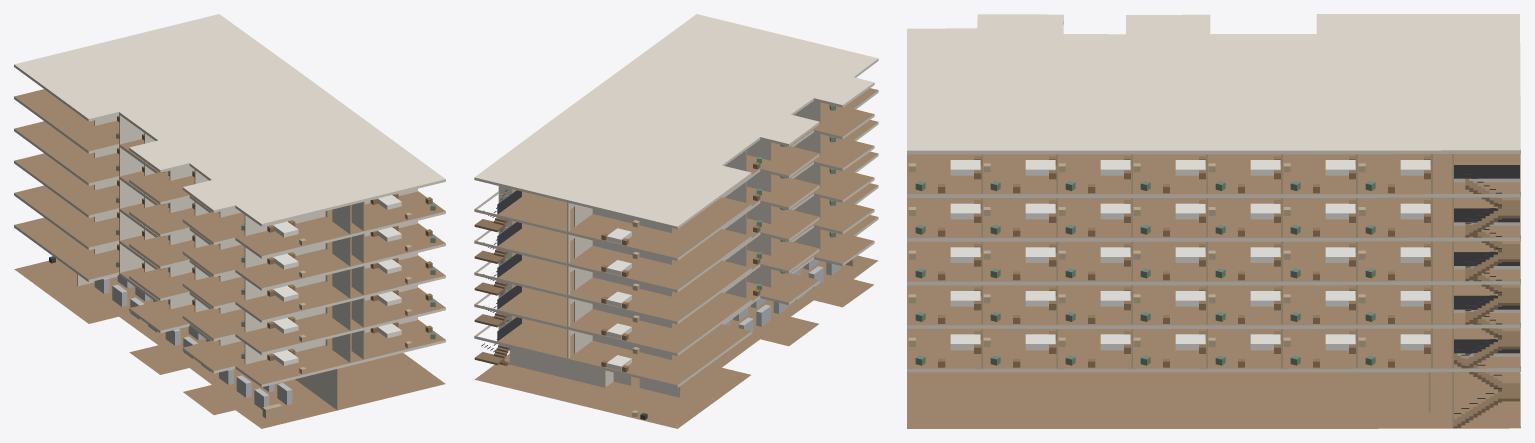
Rendered from interior.glb.
3 views of the same model, side by side, from view 1: azimuth 30°, elevation 25°; view 2: azimuth 150°, elevation 25°; view 3: azimuth 270°, elevation 25° (orthographic). The views are drawn at different scales.
Visible parts, largest first — view 1: slabs, partitions, coarse-s0, coarse-s1, coarse-s5, coarse-s3, coarse-s2, coarse-s4; view 2: slabs, partitions, stair, coarse-s0, coarse-s1, coarse-s4, coarse-s2, coarse-s3, coarse-s5; view 3: slabs, stair, coarse-s1, coarse-s4, coarse-s3, coarse-s5, coarse-s2, partitions.
Boxes of the visible parts, x1=… form: slabs: x1=14, y1=14, x2=445, y2=428; partitions: x1=77, y1=114, x2=417, y2=410; coarse-s0: x1=49, y1=256, x2=292, y2=418; coarse-s1: x1=116, y1=244, x2=435, y2=374; coarse-s5: x1=116, y1=115, x2=435, y2=245; coarse-s3: x1=116, y1=180, x2=435, y2=309; coarse-s2: x1=116, y1=212, x2=435, y2=341; coarse-s4: x1=116, y1=148, x2=435, y2=277; slabs: x1=474, y1=14, x2=878, y2=428; partitions: x1=498, y1=101, x2=845, y2=397; stair: x1=474, y1=189, x2=521, y2=365; coarse-s0: x1=632, y1=257, x2=855, y2=419; coarse-s1: x1=601, y1=231, x2=835, y2=372; coarse-s4: x1=601, y1=136, x2=835, y2=276; coarse-s2: x1=601, y1=200, x2=835, y2=340; coarse-s3: x1=601, y1=168, x2=835, y2=308; coarse-s5: x1=601, y1=104, x2=835, y2=245; slabs: x1=907, y1=14, x2=1520, y2=428; stair: x1=1453, y1=165, x2=1519, y2=428; coarse-s1: x1=908, y1=331, x2=1430, y2=367; coarse-s4: x1=908, y1=200, x2=1430, y2=236; coarse-s3: x1=908, y1=243, x2=1430, y2=280; coarse-s5: x1=908, y1=156, x2=1430, y2=193; coarse-s2: x1=908, y1=287, x2=1430, y2=323; partitions: x1=981, y1=154, x2=1453, y2=428.
Size of the model in its own units: 21.5 by 20.4 by 40.75.
